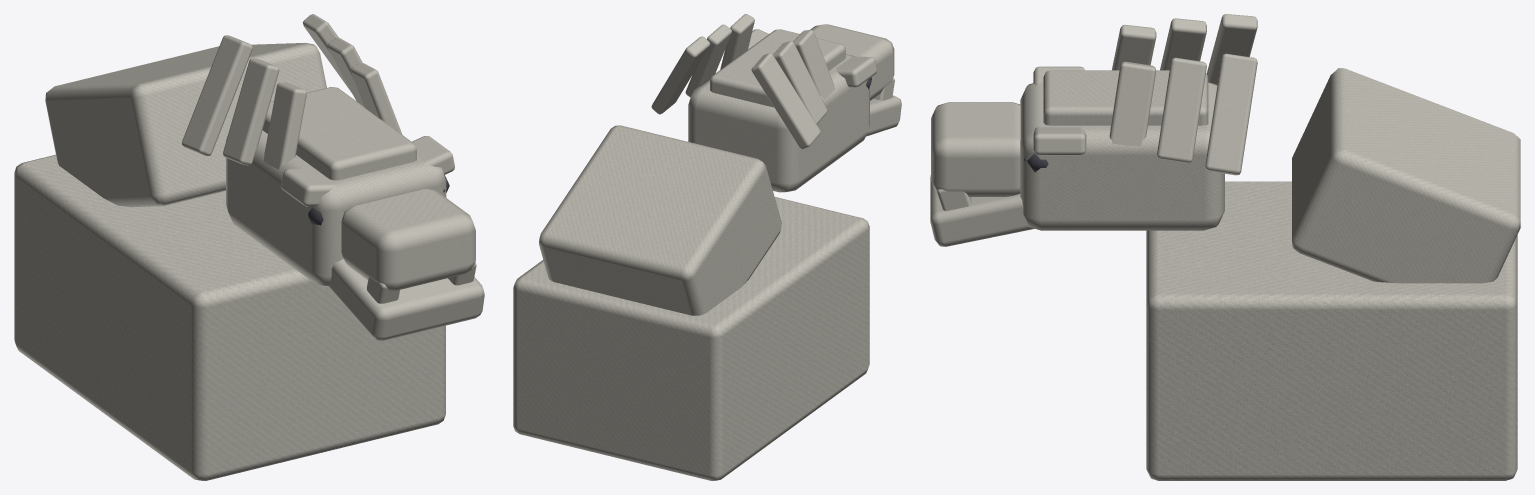
The model's file is serpent_balustrade_head.glb.
The picture shows the model from 3 angles, left to right: view 1: azimuth 30°, elevation 25°; view 2: azimuth 150°, elevation 25°; view 3: azimuth 270°, elevation 25°; orthographic projection. The views are drawn at different scales.
Parts seen in each view (by area): view 1: serpent-balustrade-head; view 2: serpent-balustrade-head; view 3: serpent-balustrade-head.
Part boxes in pixels (box(x1,y1,x2,y2)): serpent-balustrade-head: box(14, 14, 484, 480); serpent-balustrade-head: box(513, 14, 901, 480); serpent-balustrade-head: box(930, 14, 1520, 480).
Size of the model in its own units: 0.6999 by 1.04 by 1.43.
2 materials, 1 textured.
